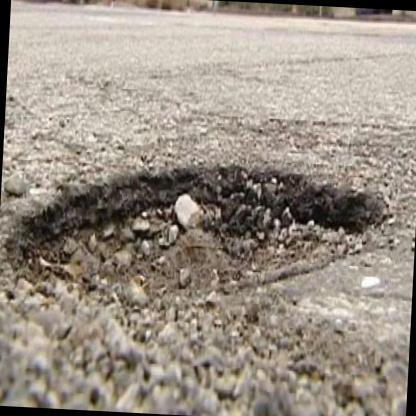pothole: (0, 156, 398, 313)
